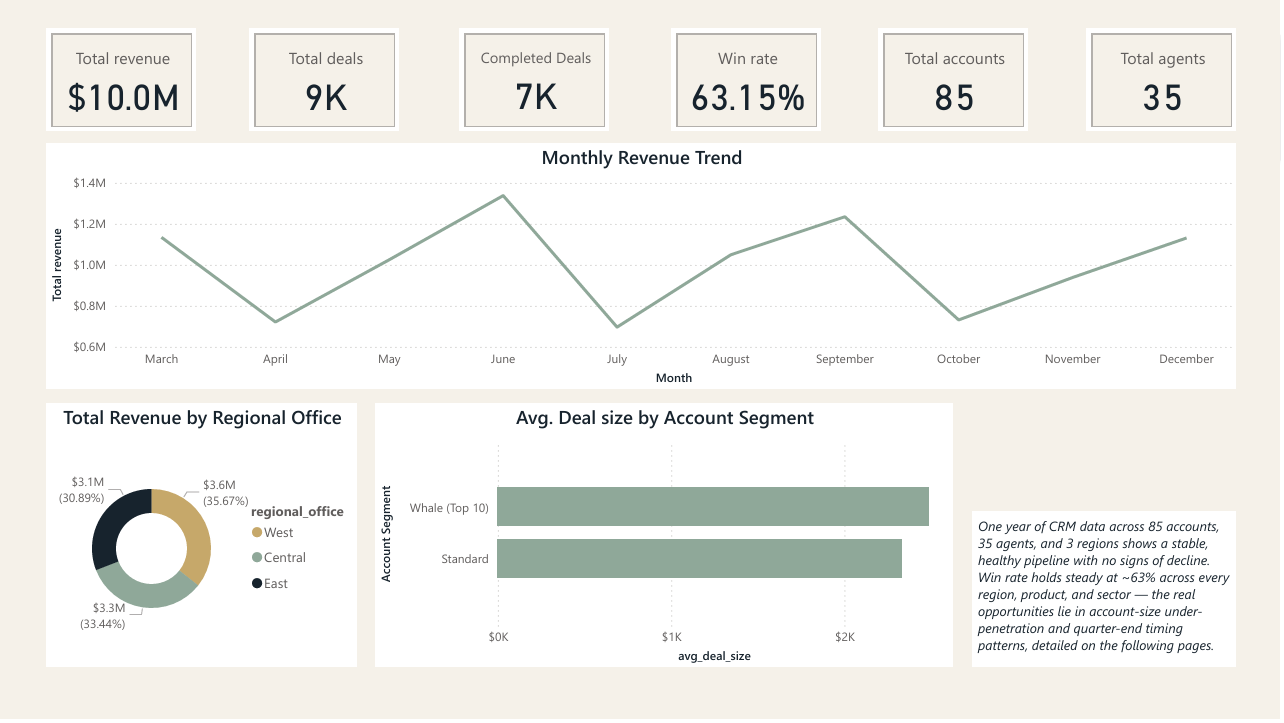

What the dashboard file says about the page in this screenshot:
{"tool":"powerbi","page":{"name":"Overview","canvas":[1280,720],"ordinal":0},"visuals":[{"type":"cardVisual","fields":{"Data":["sales_pipeline.Total revenue"]},"box":[46,29,150,103],"z":0},{"type":"cardVisual","fields":{"Data":["sales_pipeline.Total deals"]},"box":[249,29,150,103],"z":1000},{"type":"cardVisual","fields":{"Data":["sales_pipeline.Completed Deals"]},"box":[459,29,150,103],"z":2000},{"type":"cardVisual","fields":{"Data":["sales_pipeline.Win rate"]},"box":[671,29,150,103],"z":3000},{"type":"cardVisual","fields":{"Data":["accounts.Total accounts"]},"box":[878,29,150,103],"z":4000},{"type":"cardVisual","fields":{"Data":["sales_pipeline.Total sales agents"]},"box":[1086,29,150,103],"z":5000},{"type":"lineChart","title":"Monthly Revenue Trend","fields":{"Category":["sales_pipeline.close_date.Variation.Date Hierarchy.Year","sales_pipeline.close_date.Variation.Date Hierarchy.Quarter","sales_pipeline.close_date.Variation.Date Hierarchy.Month","sales_pipeline.close_date.Variation.Date Hierarchy.Day"],"Y":["sales_pipeline.Total revenue"]},"box":[46,144,1190,246],"z":6000},{"type":"donutChart","title":"Total Revenue by Regional Office","fields":{"Category":["sales_teams.regional_office"],"Y":["sales_pipeline.Total revenue"]},"box":[46,404,311,264],"z":7000},{"type":"clusteredBarChart","title":"Avg. Deal size by Account Segment","fields":{"Category":["accounts.Account Segment"],"Y":["sales_pipeline.avg_deal_size"]},"box":[375,404,578,264],"z":8000},{"type":"textbox","box":[972,512,264,156],"z":9000}]}

Visuals, with their boxes in screenshot pixels (x1, y1, x2, y2), scaled from the page's 1280x720 canvas onto the 1284x723 screenshot:
cardVisual - sales_pipeline.Total revenue: x1=46, y1=29, x2=197, y2=133
cardVisual - sales_pipeline.Total deals: x1=250, y1=29, x2=400, y2=133
cardVisual - sales_pipeline.Completed Deals: x1=460, y1=29, x2=611, y2=133
cardVisual - sales_pipeline.Win rate: x1=673, y1=29, x2=824, y2=133
cardVisual - accounts.Total accounts: x1=881, y1=29, x2=1031, y2=133
cardVisual - sales_pipeline.Total sales agents: x1=1089, y1=29, x2=1240, y2=133
"Monthly Revenue Trend" lineChart: x1=46, y1=145, x2=1240, y2=392
"Total Revenue by Regional Office" donutChart: x1=46, y1=406, x2=358, y2=671
"Avg. Deal size by Account Segment" clusteredBarChart: x1=376, y1=406, x2=956, y2=671
textbox: x1=975, y1=514, x2=1240, y2=671
